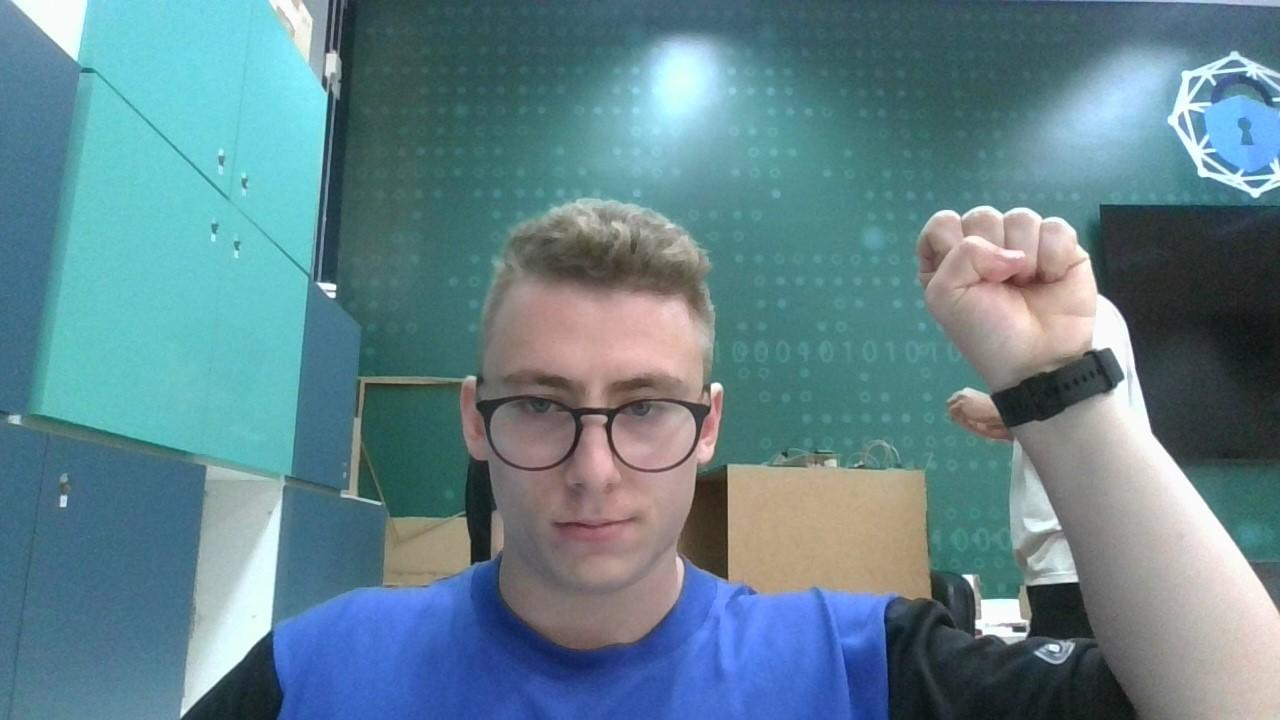S: (914, 198, 1100, 370)
